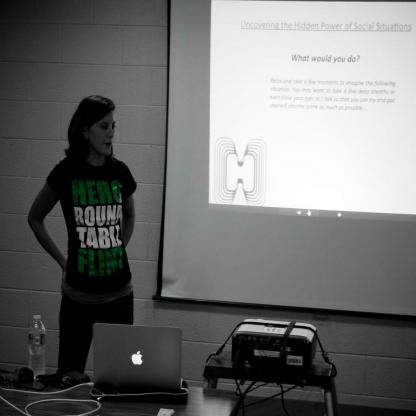board: (81, 328, 188, 401), (27, 315, 46, 380)
